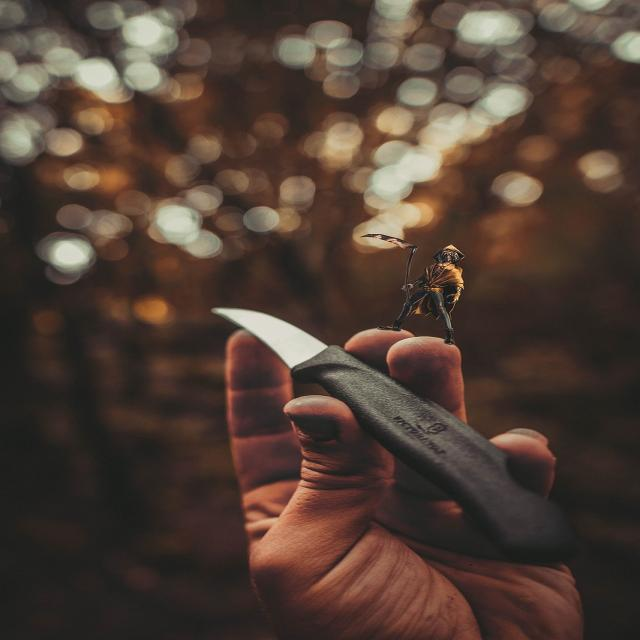Knife: (212, 308, 574, 562)
